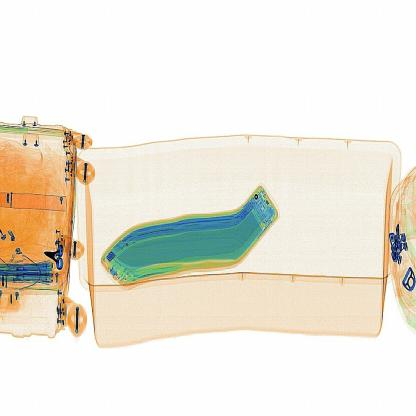gun: (37, 244, 79, 283)
